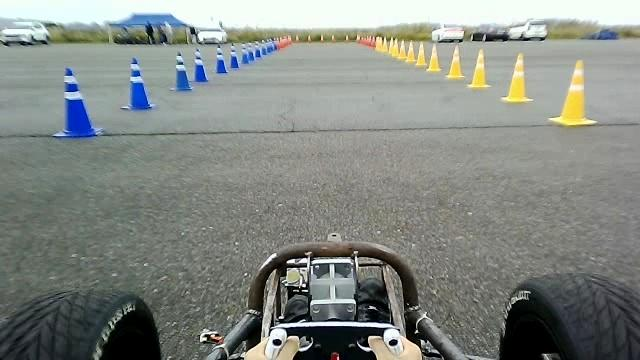blue cone: (51, 66, 102, 137), (120, 56, 155, 110), (169, 50, 192, 90), (193, 47, 208, 82), (215, 44, 228, 73), (229, 42, 239, 68), (216, 58, 228, 73)
yellow cone: (548, 58, 597, 126), (500, 52, 533, 102), (467, 47, 491, 88), (446, 45, 465, 79), (426, 43, 441, 71), (415, 41, 426, 66), (405, 40, 416, 62), (397, 39, 407, 59), (390, 38, 399, 57)
